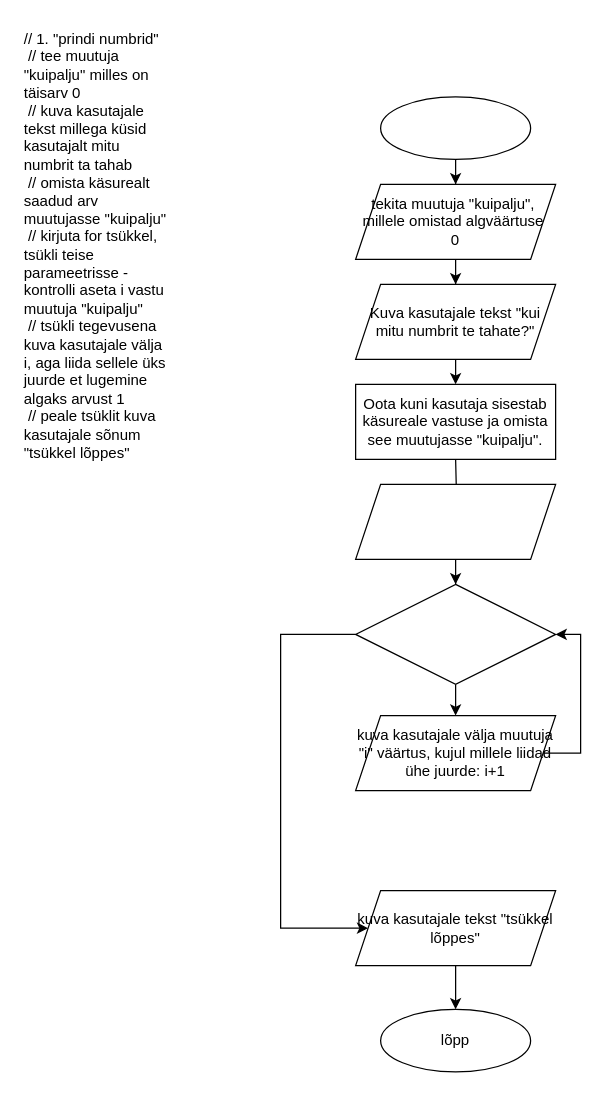
The diagram is 613 pixels wide and 1094 high, and some of its shapes have lost their labels. The box of each missing label's shape, as (x1, y1, x2, y2) in pixels:
algus: (379, 96, 531, 159)
kas tsüklis olev muutuja "i" on väiksem kui arv muutujas "kuipalju"?: (354, 583, 556, 684)
seadista for-tsükel, millel on tsüklti töö jaoks muutuja "i".: (354, 483, 556, 559)
